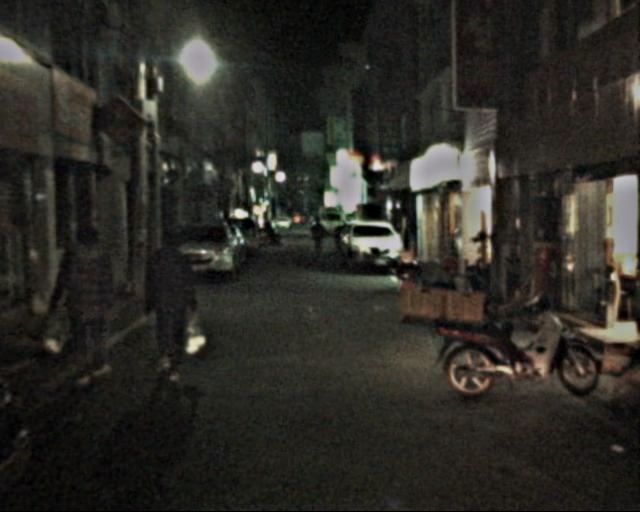person: (51, 221, 126, 385), (143, 225, 204, 380), (310, 217, 327, 257)
